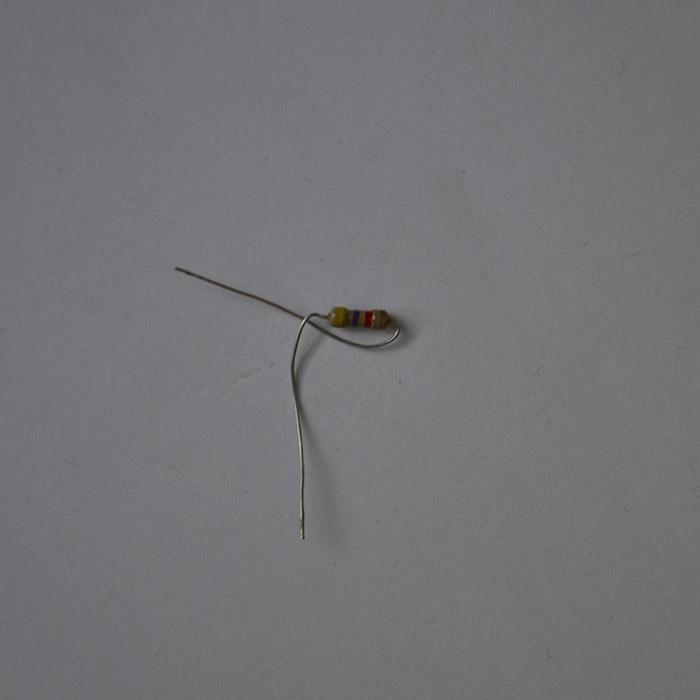resistor: (326, 304, 391, 329)
